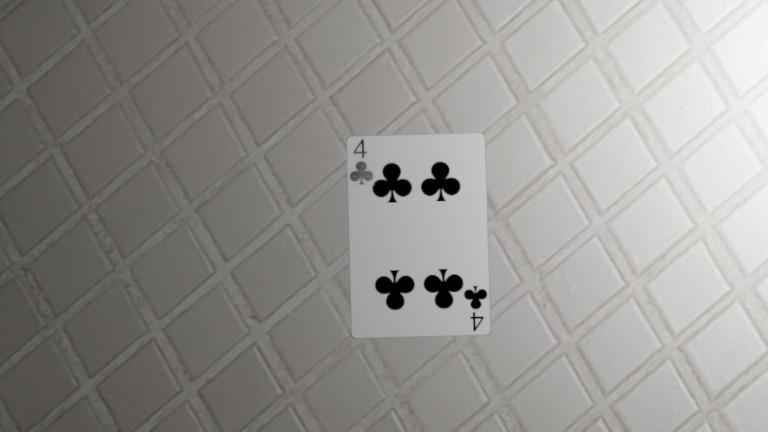4_of_clubs: (185, 114, 196, 133), (139, 56, 150, 74)
